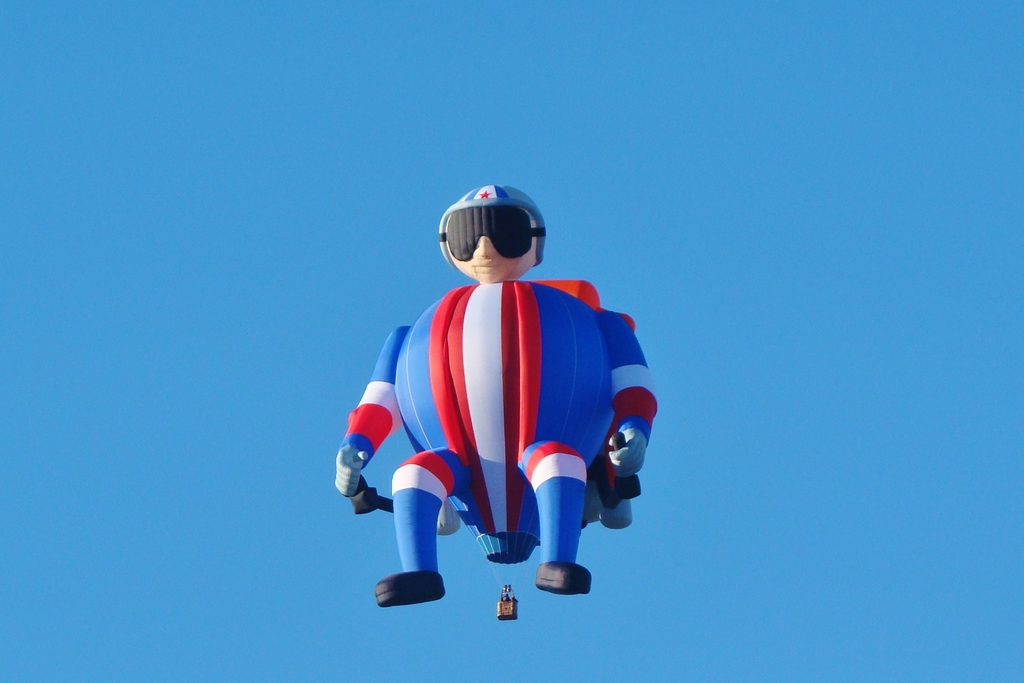face: (461, 203, 530, 284)
